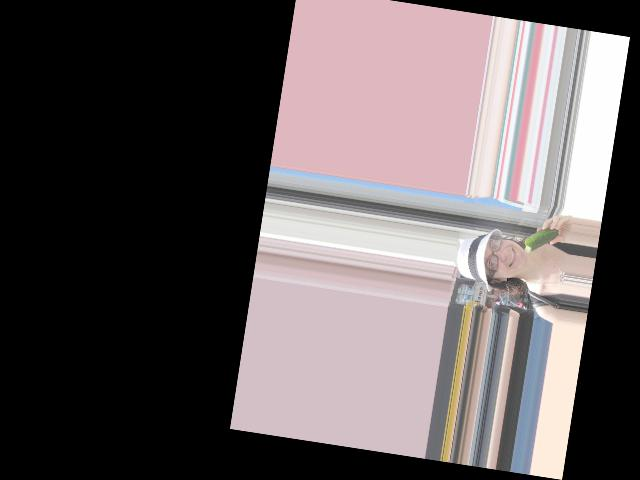cucumber: (523, 223, 559, 256)
